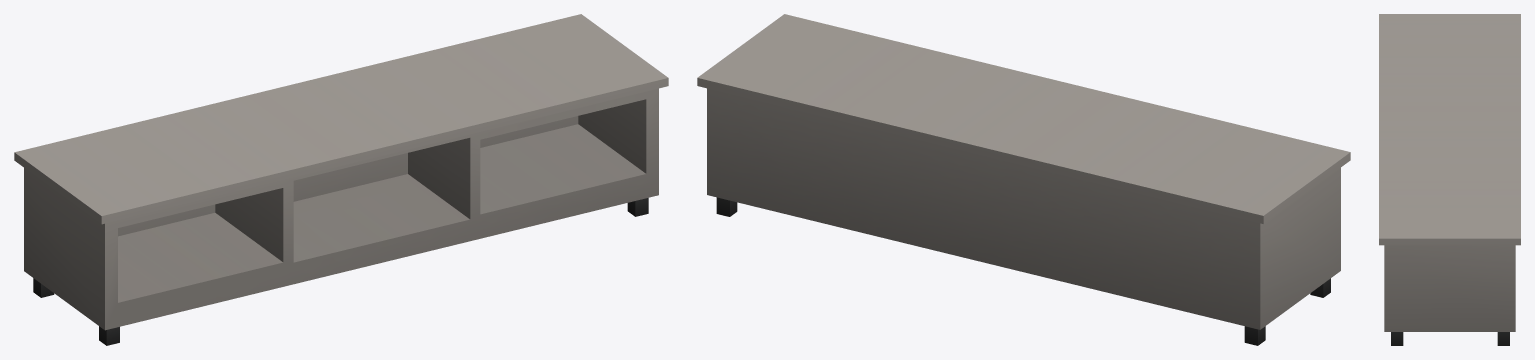
File: SideboardCabinet_A_Open_Gray.fbx
3 views of the same model, side by side, from view 1: azimuth 30°, elevation 25°; view 2: azimuth 150°, elevation 25°; view 3: azimuth 270°, elevation 25° (orthographic). The views are drawn at different scales.
Visible parts, largest first — view 1: SideboardCabinet_A_Open_Gray; view 2: SideboardCabinet_A_Open_Gray; view 3: SideboardCabinet_A_Open_Gray.
Part boxes in pixels (x1,y1,x2,y2): SideboardCabinet_A_Open_Gray: (14, 14, 668, 345); SideboardCabinet_A_Open_Gray: (697, 14, 1350, 345); SideboardCabinet_A_Open_Gray: (1379, 14, 1520, 345).
Bounding box in the file's own units: 300 × 69.86 × 80.
